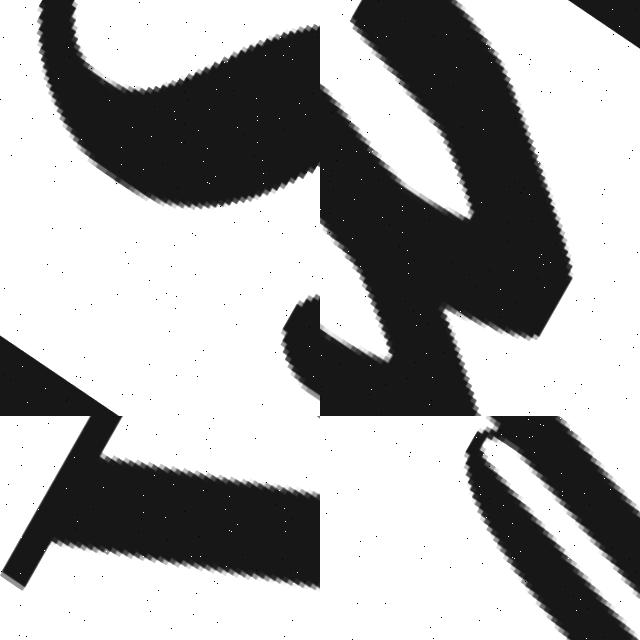D: (320, 416, 640, 640)
S: (0, 0, 320, 416)
V: (0, 416, 320, 640)
W: (320, 0, 640, 416)
